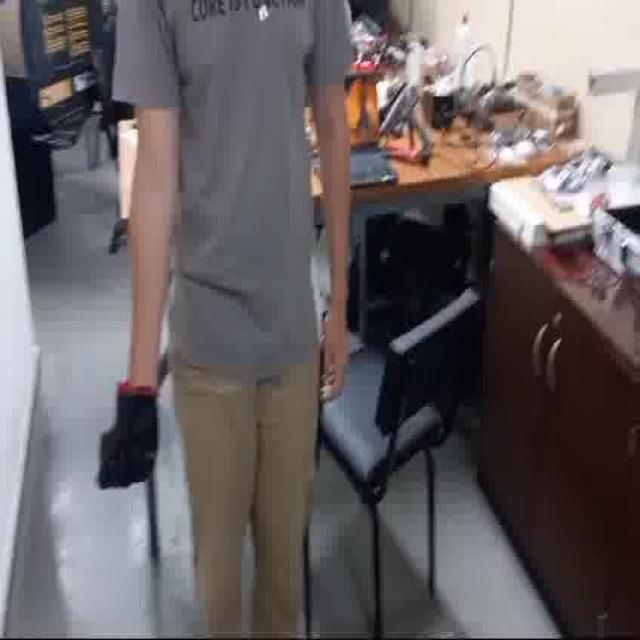Gloves: (95, 381, 166, 501)
